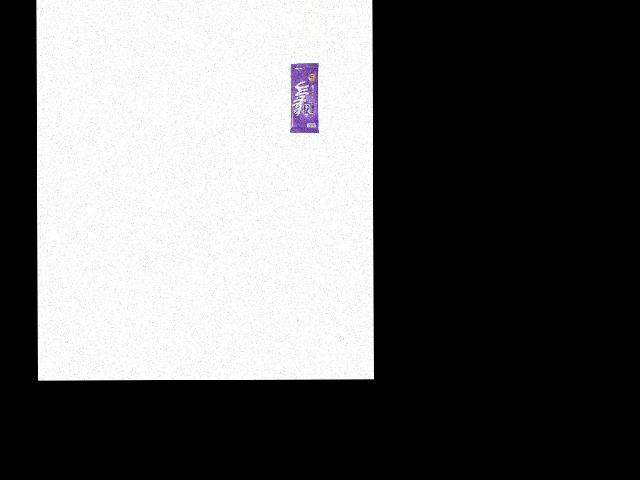chocolate: (288, 62, 322, 137)
